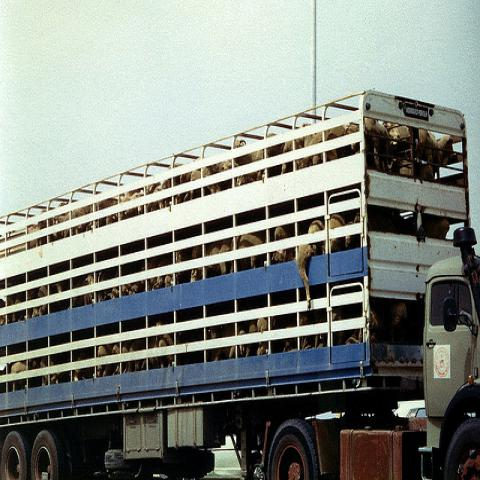truck: (0, 88, 479, 479)
